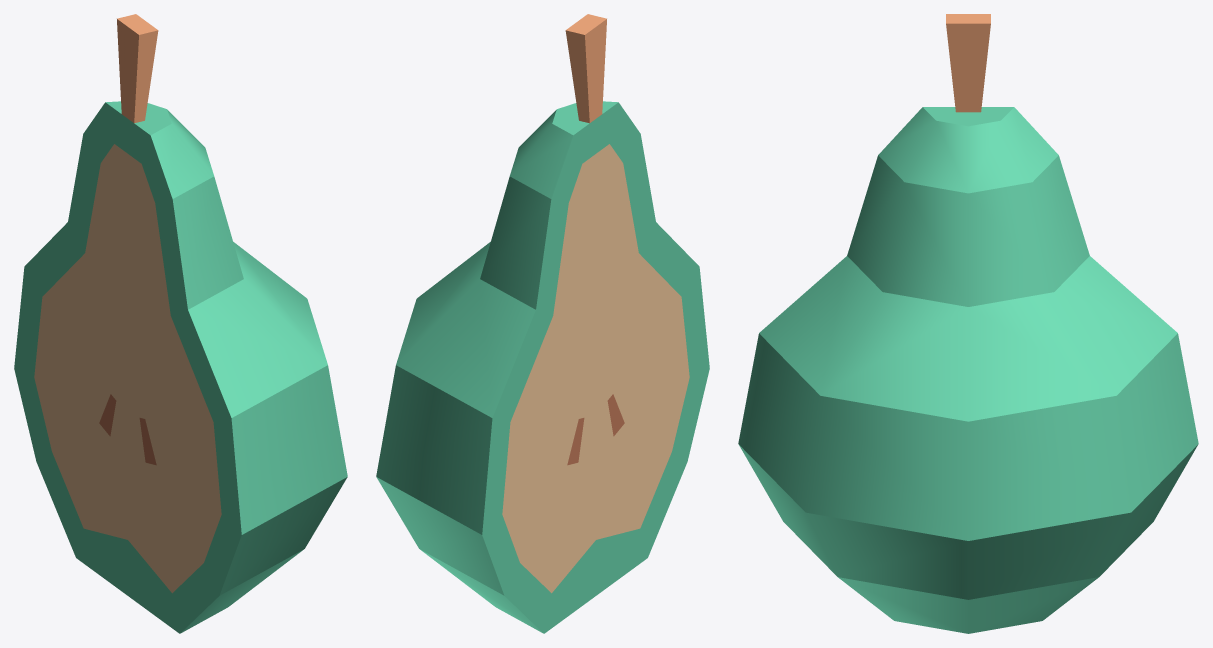
Rendered from pearHalf.GLB.
The picture shows the model from 3 angles, left to right: view 1: azimuth 30°, elevation 25°; view 2: azimuth 150°, elevation 25°; view 3: azimuth 270°, elevation 25°; orthographic projection.
Parts seen in each view (by area): view 1: pearHalf; view 2: pearHalf; view 3: pearHalf.
Part boxes in pixels (x1=…): pearHalf: x1=14, y1=14, x2=347, y2=633; pearHalf: x1=376, y1=14, x2=709, y2=633; pearHalf: x1=738, y1=14, x2=1198, y2=633.
Size of the model in its own units: 0.0981 by 0.2708 by 0.1963.
